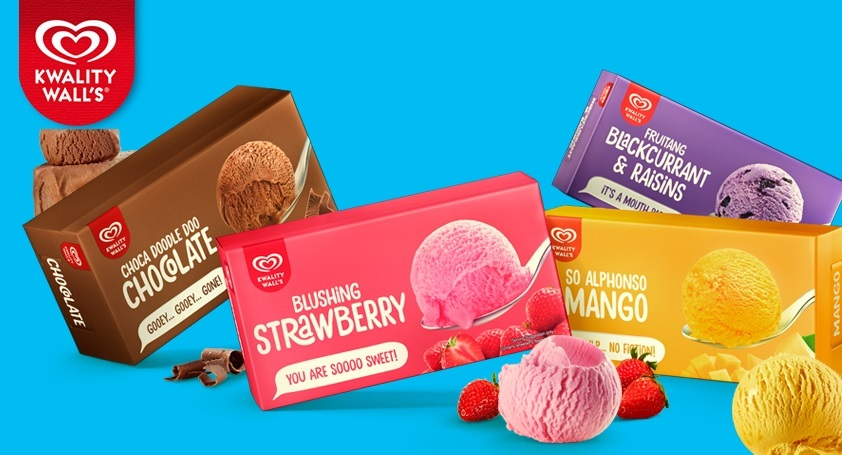Kwality_Walls: (25, 15, 121, 71), (543, 219, 592, 254), (95, 210, 129, 249), (247, 250, 289, 277), (625, 89, 662, 115)
